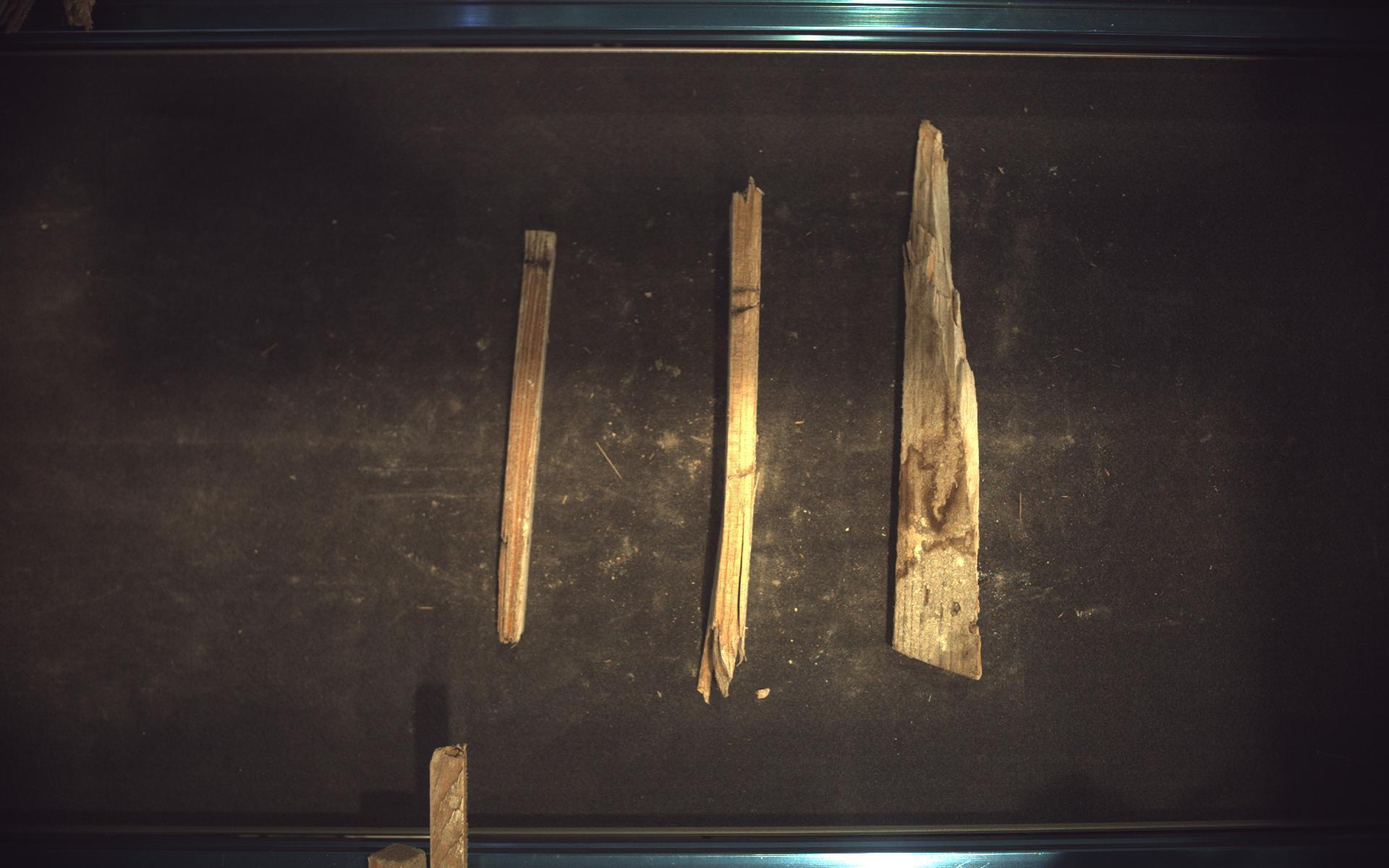wood: (894, 120, 984, 680), (698, 176, 764, 705), (498, 229, 556, 645)
